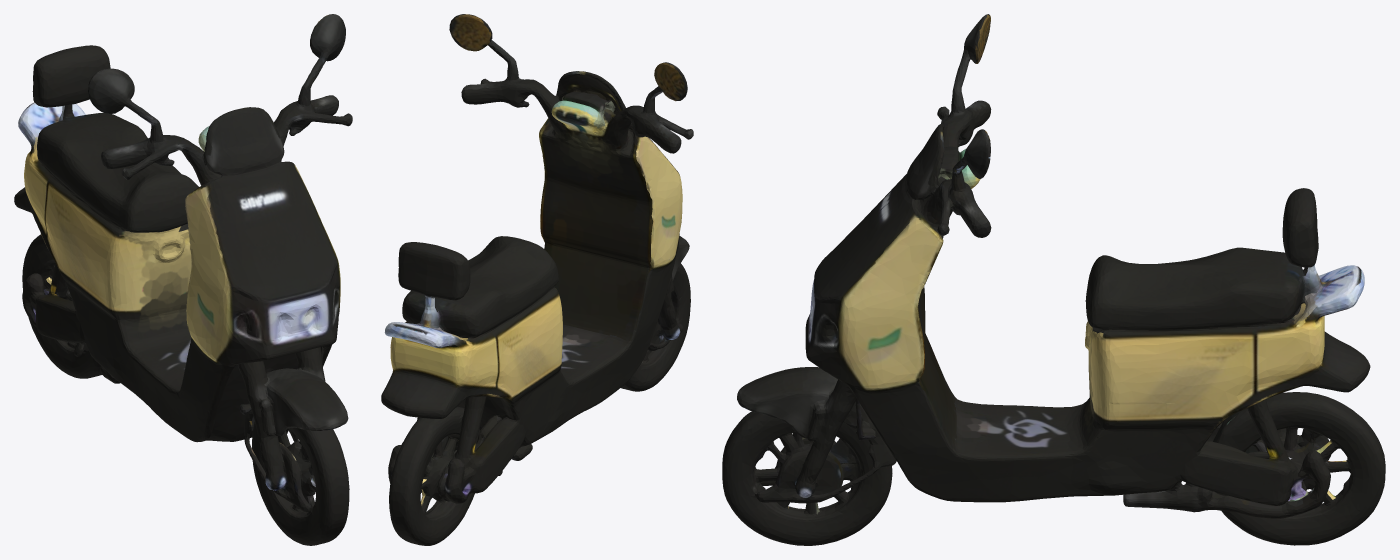
The picture shows the model from 3 angles, left to right: view 1: azimuth 30°, elevation 25°; view 2: azimuth 150°, elevation 25°; view 3: azimuth 270°, elevation 25°; orthographic projection. The views are drawn at different scales.
Parts seen in each view (by area): view 1: tmpg6nk6059.ply; view 2: tmpg6nk6059.ply; view 3: tmpg6nk6059.ply.
Part boxes in pixels (x1=…): tmpg6nk6059.ply: x1=14, y1=14, x2=352, y2=545; tmpg6nk6059.ply: x1=381, y1=14, x2=693, y2=545; tmpg6nk6059.ply: x1=722, y1=14, x2=1385, y2=545.
Bounding box in the file's own units: 0.9569 × 1.55 × 1.99.
Materials: 1 (1 with a texture image).
